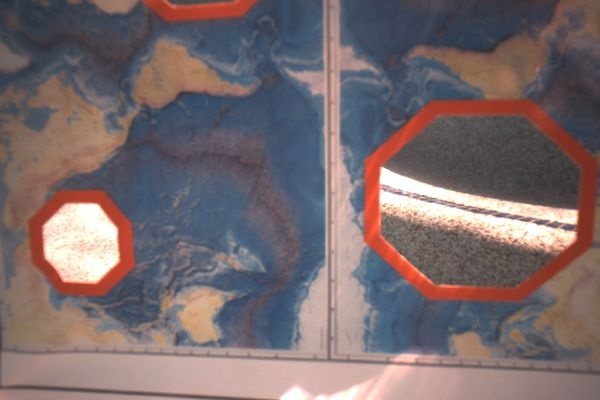torpille: (0, 0, 600, 400)
torpille_target: (364, 100, 596, 300), (28, 190, 132, 297), (143, 0, 255, 22)
